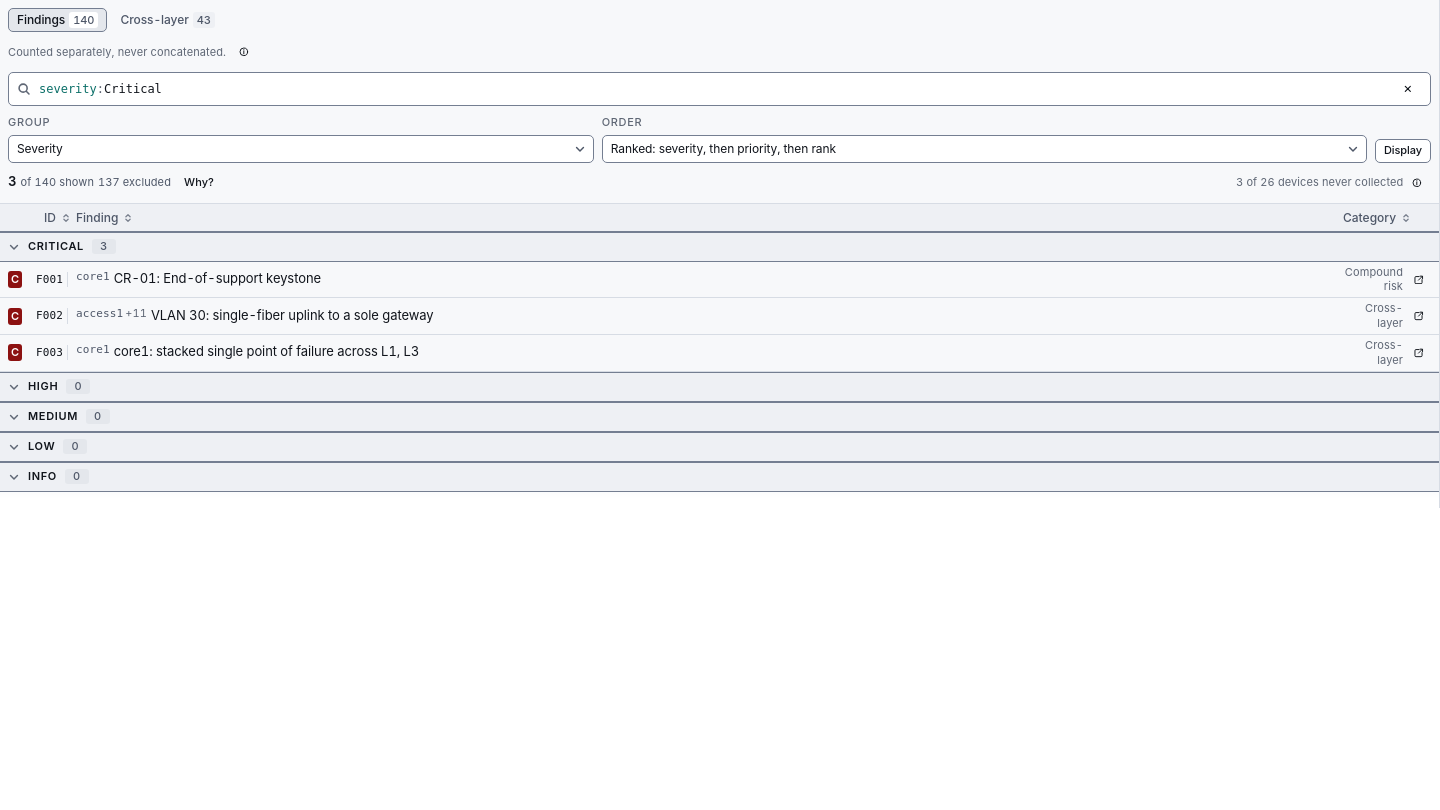
Scenario: filter accounting › states how many rows a filter excluded, per clause, with an undetermined count kept apart
This screenshot has width=1440, height=810.
Click the button "Why?" at x=199, y=182, box [175,170,223,194]
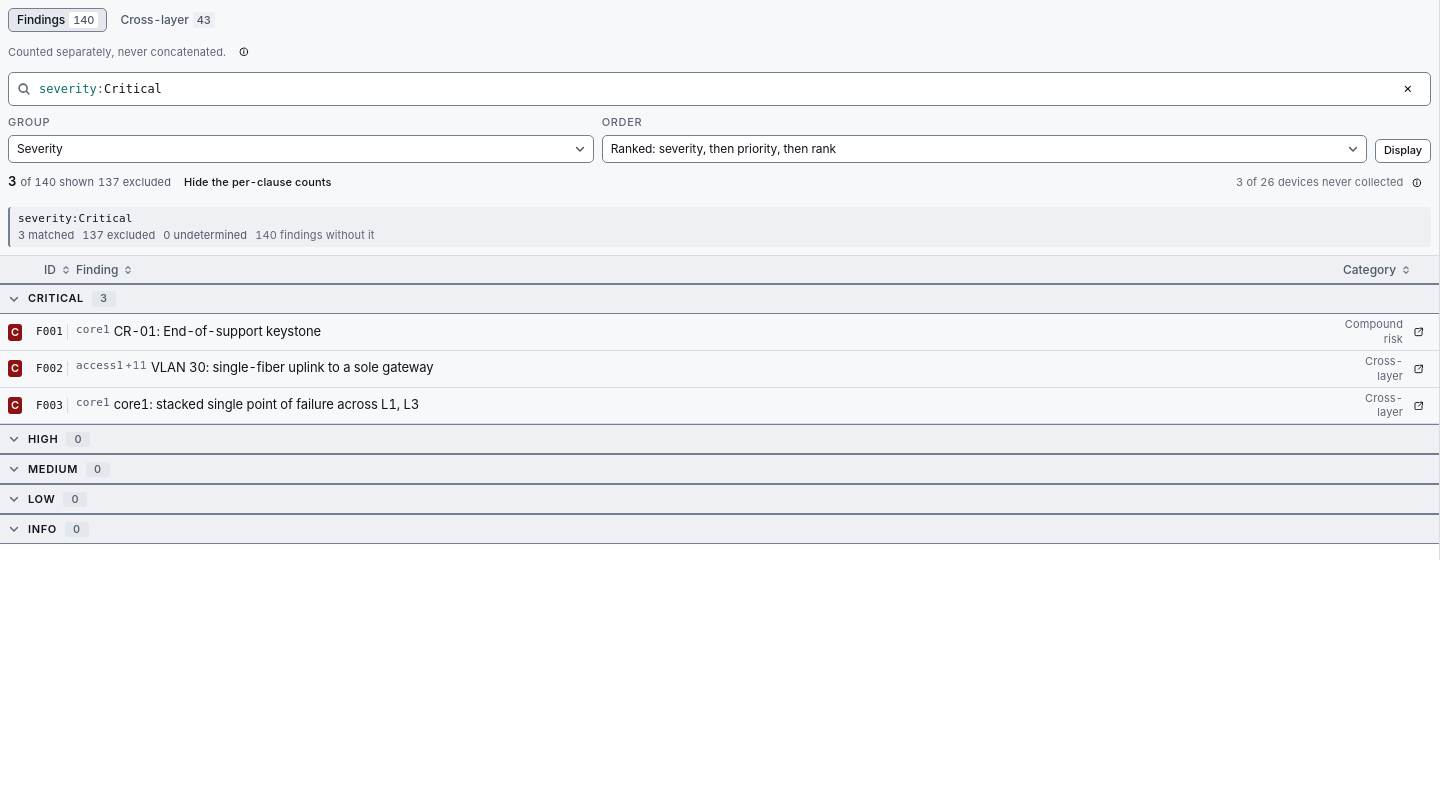
Check: the list item is shown, box [8,206,1431,247]
Check: the list item shows "undetermined", box [163,228,247,242]
